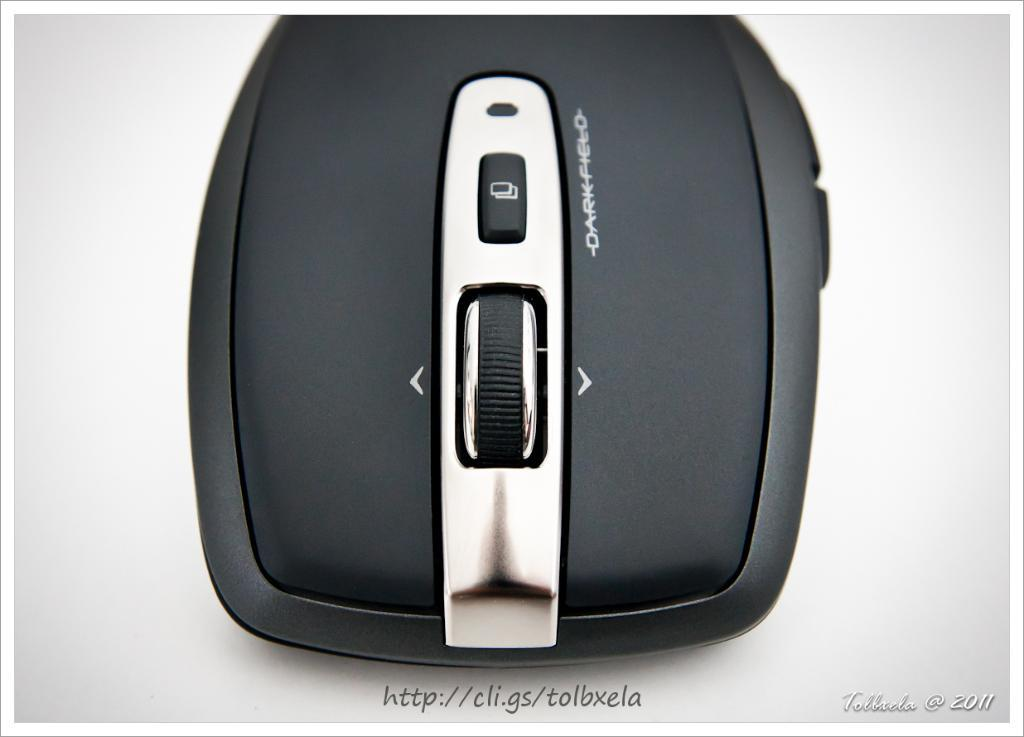Computer-mouse: (184, 15, 831, 671)
